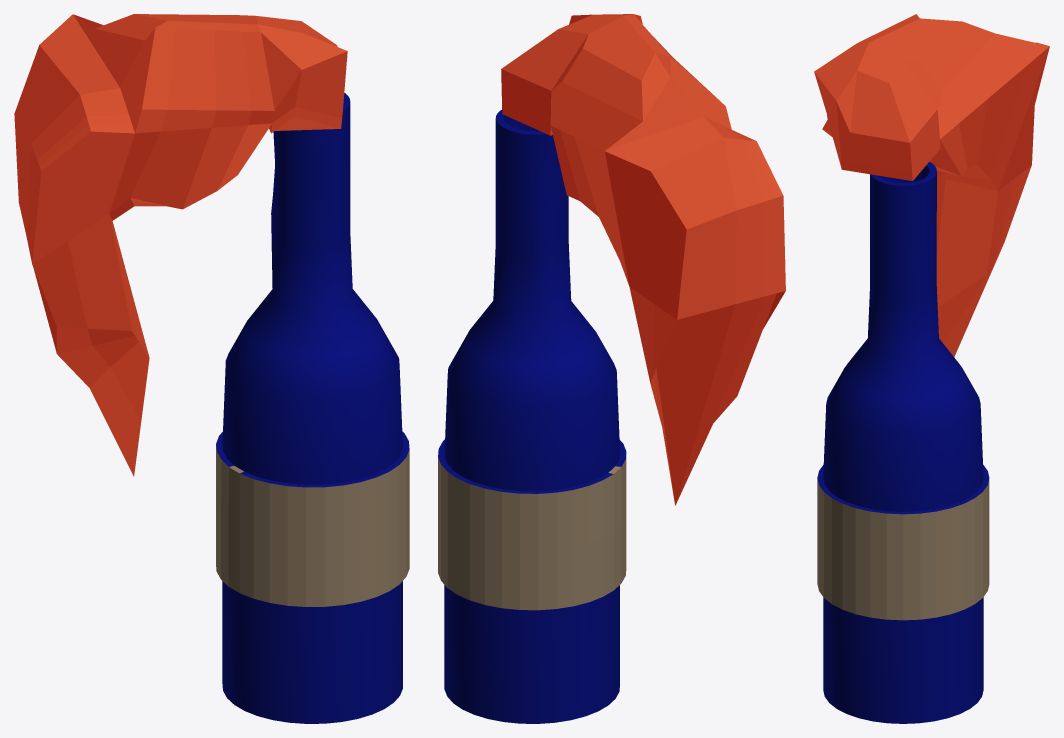
The model's file is molotov.glb.
3 renders of one model, left to right at view 1: azimuth 30°, elevation 25°; view 2: azimuth 150°, elevation 25°; view 3: azimuth 270°, elevation 25°, orthographic. The views are drawn at different scales.
Visible parts, largest first — view 1: Cylinder_2; view 2: Cylinder_2; view 3: Cylinder_2.
Boxes of the visible parts, bbox=[...] form: Cylinder_2: bbox=[14, 14, 409, 723]; Cylinder_2: bbox=[438, 14, 785, 723]; Cylinder_2: bbox=[814, 14, 1049, 723].
Bounding box in the file's own units: 4.53 × 8.46 × 2.94.
